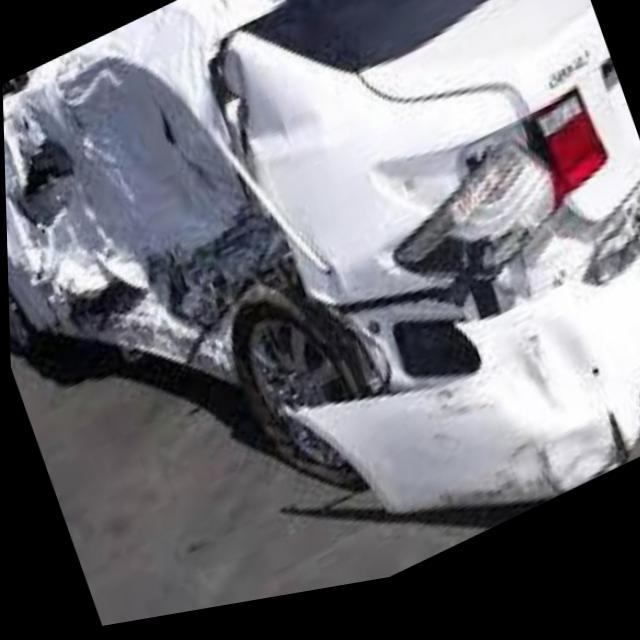crash: (2, 0, 640, 523)
